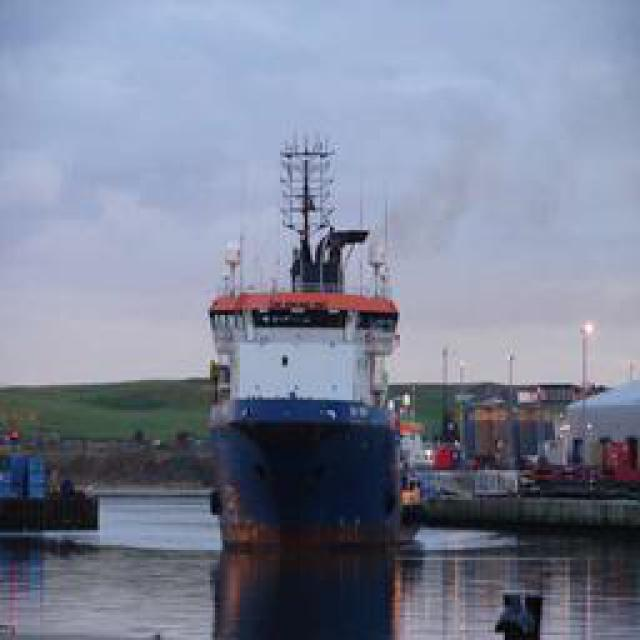Ship: (202, 99, 412, 566)
